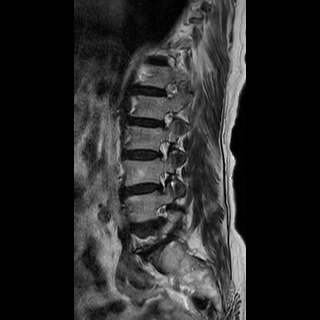RFS0: (151, 168, 175, 197), (152, 137, 174, 164), (156, 106, 177, 134), (151, 200, 172, 226)
